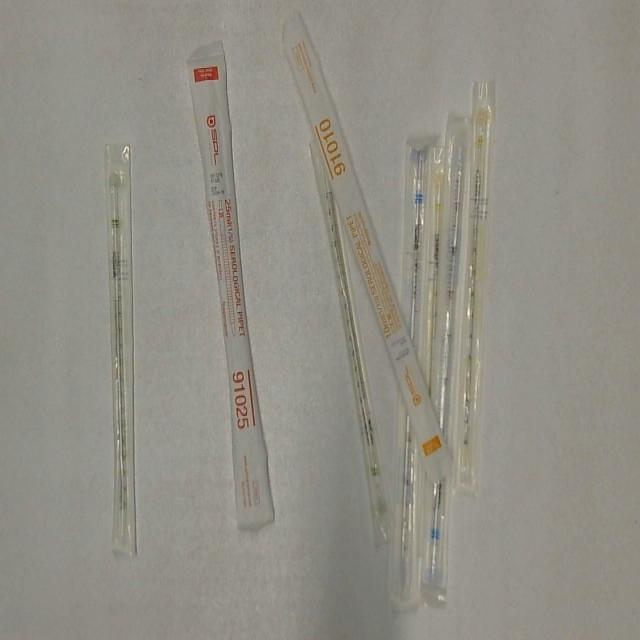Serelogical Pipet 1 mL: (451, 70, 500, 496)
Serelogical Pipet 10 mL: (281, 8, 453, 490)
Serelogical Pipet 2 mL: (307, 132, 395, 554), (104, 138, 140, 563)
Serelogical Pipet 25 mL: (184, 33, 278, 536)
Serelogical Pipet 5 mL: (419, 115, 474, 597), (386, 128, 439, 619)
